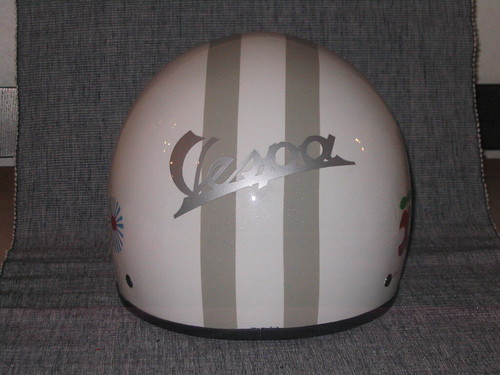helmet: (92, 24, 427, 337)
